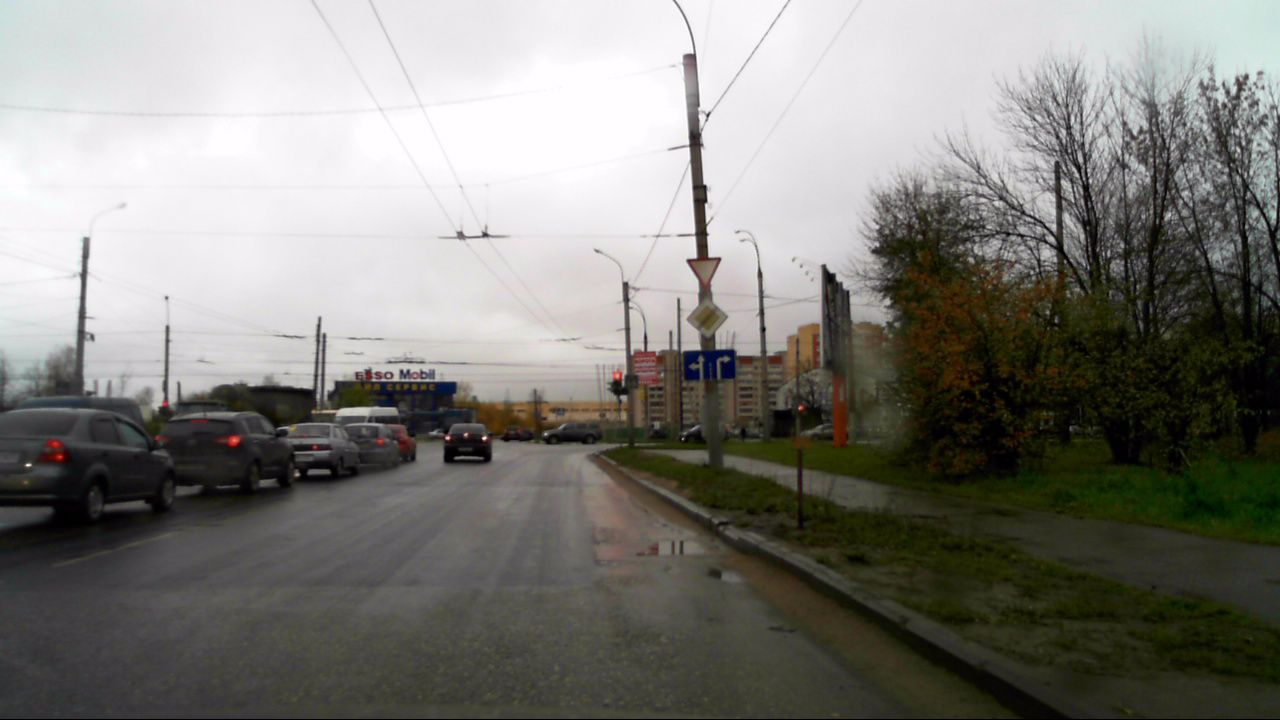main road: (687, 298, 728, 339)
